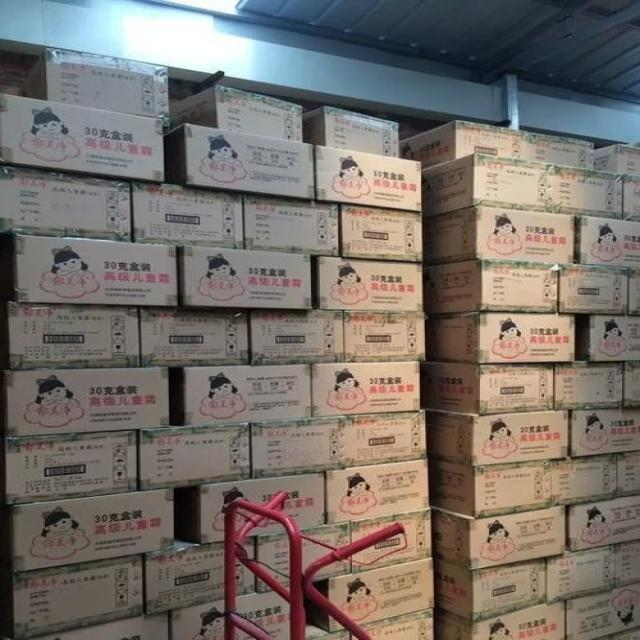box: (0, 94, 165, 183), (10, 487, 175, 572), (15, 235, 177, 308), (6, 366, 172, 437), (19, 49, 170, 127), (164, 124, 315, 200), (13, 555, 143, 638), (0, 164, 133, 242), (5, 431, 136, 507), (8, 301, 141, 370), (425, 204, 575, 264), (200, 473, 326, 544), (177, 245, 312, 311), (430, 507, 567, 571), (146, 537, 255, 616), (184, 363, 314, 428), (422, 311, 575, 365), (425, 410, 571, 466), (425, 154, 549, 218), (132, 181, 246, 249), (329, 558, 435, 631), (169, 85, 303, 142), (138, 424, 251, 490), (425, 259, 558, 314), (430, 560, 547, 622), (255, 521, 353, 594), (429, 459, 549, 518), (315, 146, 422, 212), (421, 362, 554, 415), (138, 308, 250, 367), (169, 586, 289, 640), (328, 459, 429, 523), (399, 120, 524, 169), (244, 193, 340, 256), (314, 256, 422, 312), (311, 363, 421, 417), (250, 417, 340, 478), (339, 410, 429, 469), (338, 203, 425, 263), (434, 600, 564, 640), (251, 311, 346, 365), (351, 510, 431, 574), (303, 106, 399, 157), (15, 612, 169, 640), (564, 584, 639, 640), (344, 312, 426, 363), (570, 494, 640, 553), (548, 165, 623, 219), (545, 545, 613, 604), (559, 265, 627, 316), (549, 456, 617, 507), (568, 409, 640, 457), (573, 216, 640, 267), (554, 363, 622, 412), (524, 132, 595, 170), (589, 315, 640, 361), (358, 610, 434, 640), (595, 144, 640, 174), (613, 542, 640, 591), (616, 452, 640, 499), (622, 361, 640, 410), (622, 175, 640, 221)
